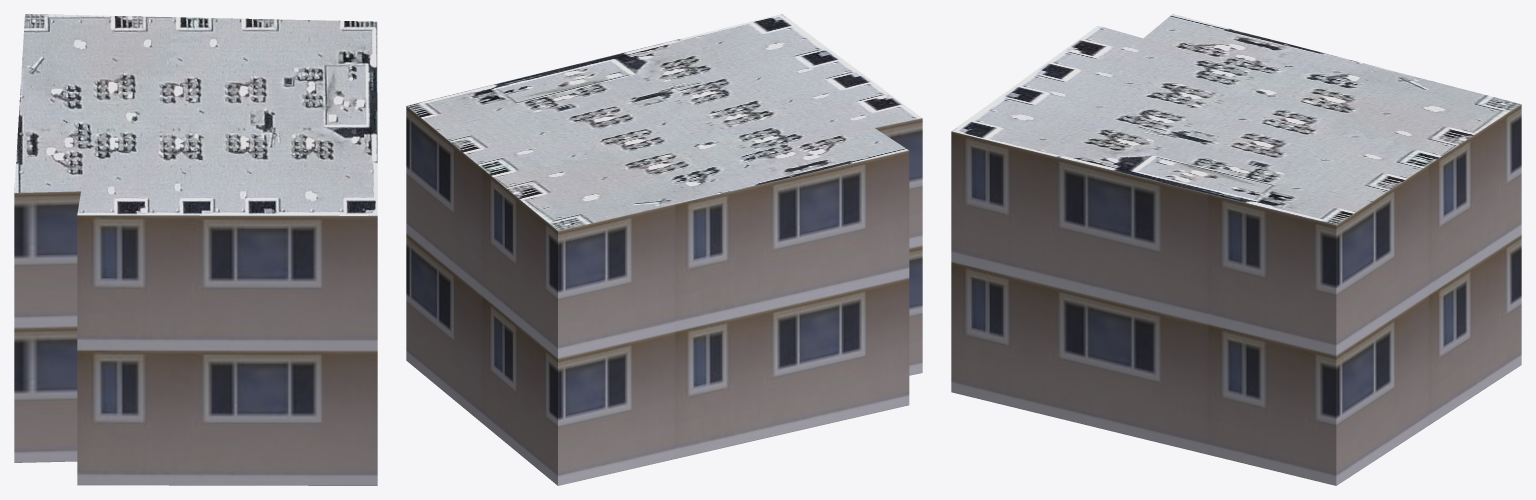
The model's file is ResTex__4486.fbx.
The picture shows the model from 3 angles, left to right: view 1: azimuth 30°, elevation 25°; view 2: azimuth 150°, elevation 25°; view 3: azimuth 270°, elevation 25°; orthographic projection. The views are drawn at different scales.
Visible parts, largest first — view 1: CityEngineMaterial_21_m, CityEngineMaterial_4_m; view 2: CityEngineMaterial_21_m, CityEngineMaterial_4_m; view 3: CityEngineMaterial_21_m, CityEngineMaterial_4_m.
Boxes of the visible parts, left/top/right/bottom form: CityEngineMaterial_21_m: left=14, top=191, right=377, bottom=485; CityEngineMaterial_4_m: left=14, top=14, right=377, bottom=215; CityEngineMaterial_21_m: left=406, top=106, right=922, bottom=485; CityEngineMaterial_4_m: left=407, top=14, right=921, bottom=230; CityEngineMaterial_21_m: left=951, top=104, right=1521, bottom=485; CityEngineMaterial_4_m: left=952, top=14, right=1520, bottom=224.
Bounding box in the file's own units: 10.41 × 6 × 11.88.
Materials: 2 (2 with a texture image).
